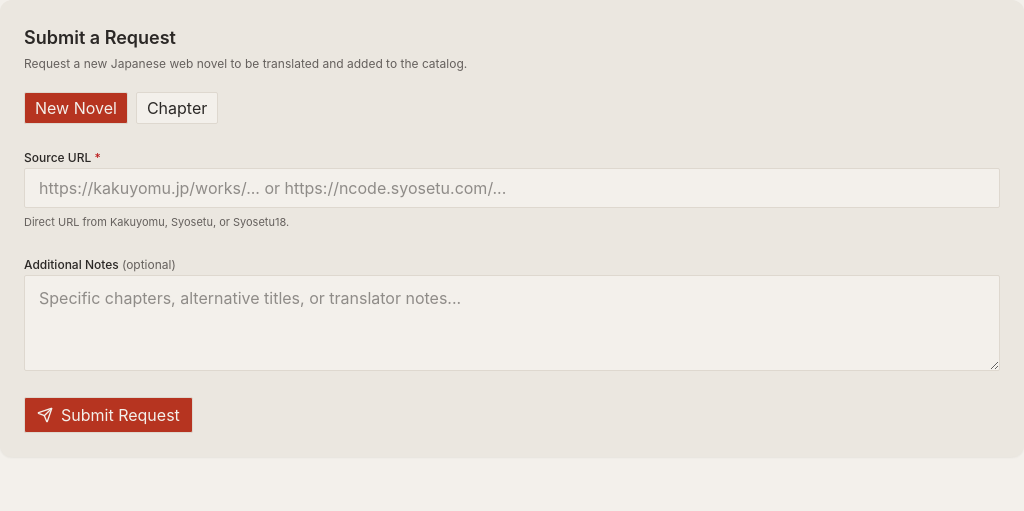
Test case: public engagement UI › blocks invalid request input client-side
Click the button "Submit Request".
click(108, 414)  # box left=24, top=396, right=193, bottom=432
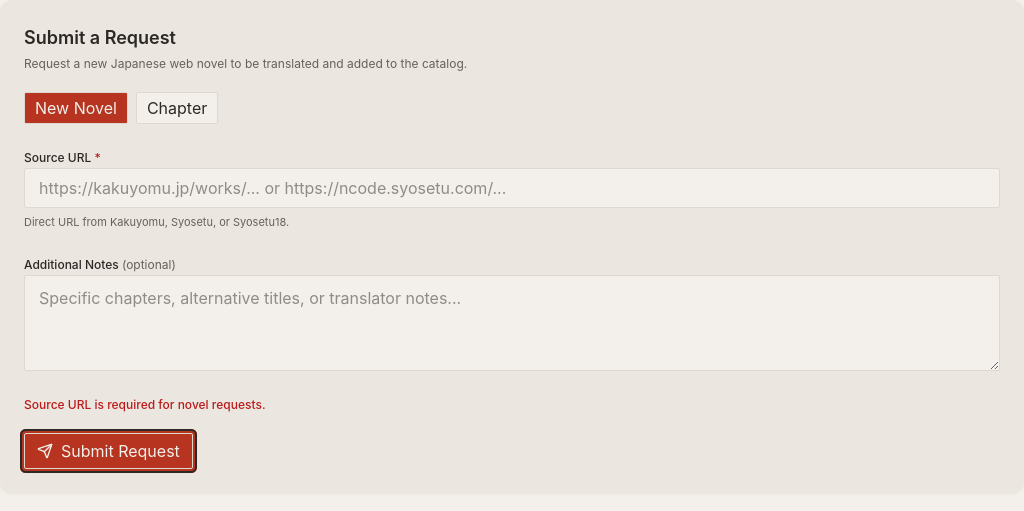
Result: the text "Source URL is required for novel requests." is shown at left=24, top=396, right=266, bottom=412
